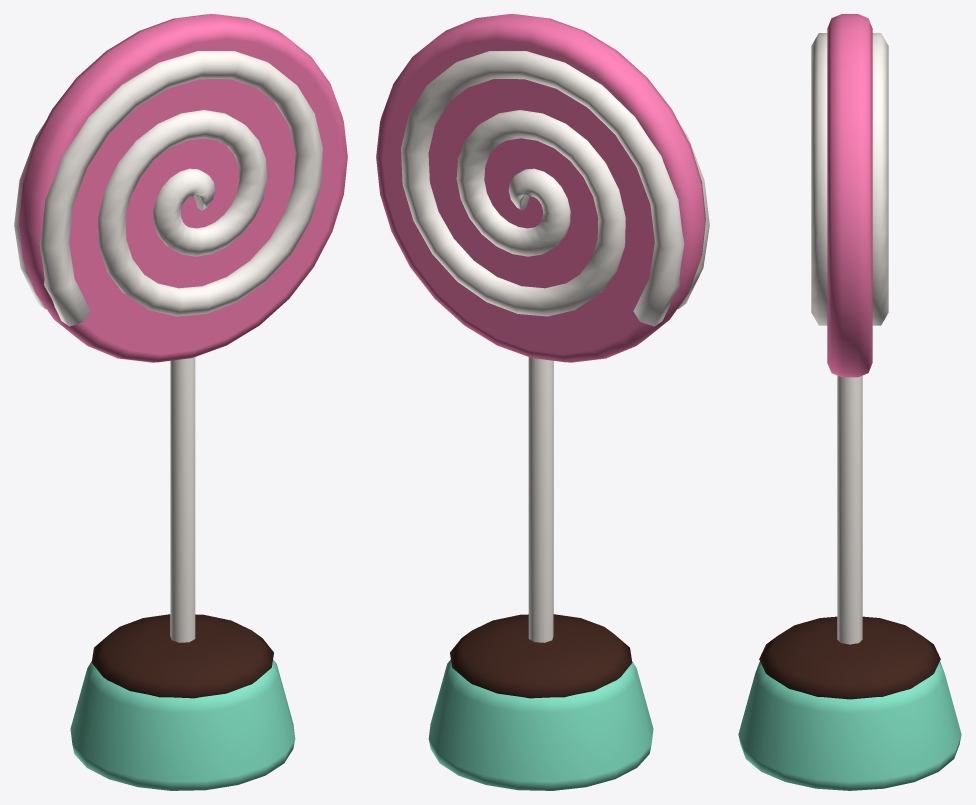
The model's file is candy_lollipop.glb.
3 views of the same model, side by side, from view 1: azimuth 30°, elevation 25°; view 2: azimuth 150°, elevation 25°; view 3: azimuth 270°, elevation 25° (orthographic).
Parts seen in each view (by area): view 1: Lollipop; view 2: Lollipop; view 3: Lollipop.
Boxes of the visible parts, x1,y1,x2,y2 form: Lollipop: (14, 14, 347, 790); Lollipop: (376, 14, 709, 790); Lollipop: (738, 14, 961, 790).
Bounding box in the file's own units: 2.2 × 4.8 × 1.35.
